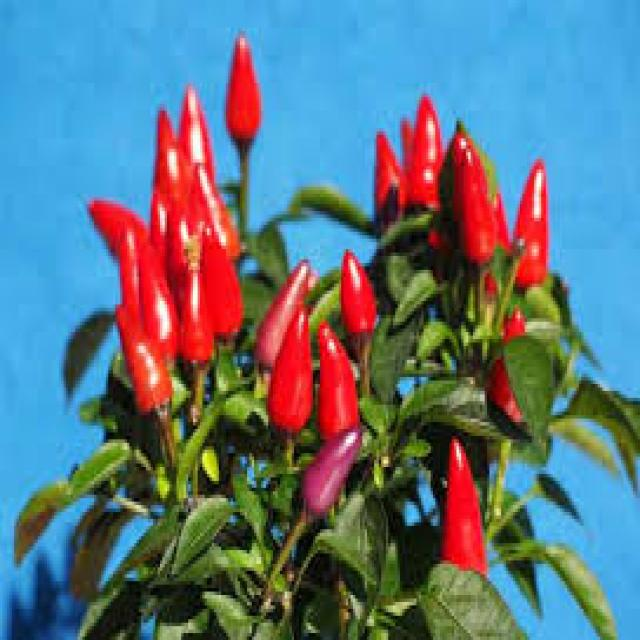Mosaic_virus: (44, 75, 640, 640)
